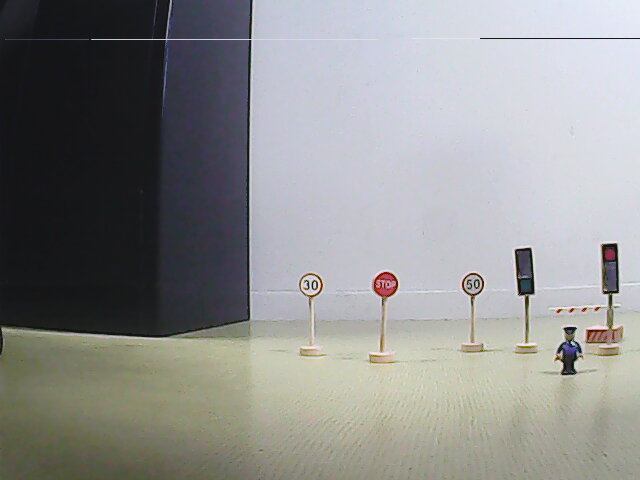barrier: (549, 303, 625, 345)
green_traffic_sign: (515, 246, 533, 296)
person: (552, 326, 585, 377)
red_traffic_sign: (601, 241, 619, 295)
sign_30: (297, 272, 324, 300)
sign_50: (461, 272, 486, 296)
stop_sign: (370, 269, 400, 299)
